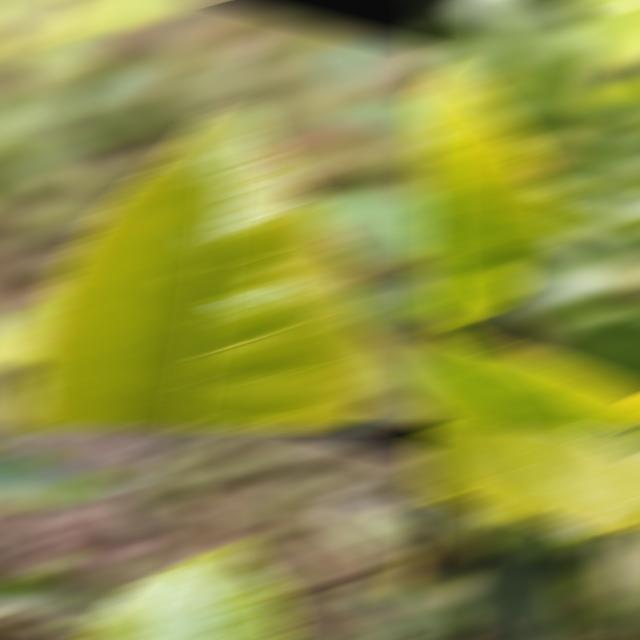Leaf: (23, 103, 376, 426), (414, 65, 566, 324), (414, 430, 640, 536), (74, 546, 293, 638), (414, 339, 636, 426), (447, 2, 595, 117), (484, 351, 640, 422), (304, 194, 430, 262), (480, 548, 564, 638), (0, 577, 122, 632), (548, 317, 640, 389), (0, 458, 122, 506), (52, 2, 197, 39), (317, 494, 392, 557), (597, 531, 640, 637), (414, 574, 479, 638), (346, 590, 430, 638), (573, 2, 640, 60)
